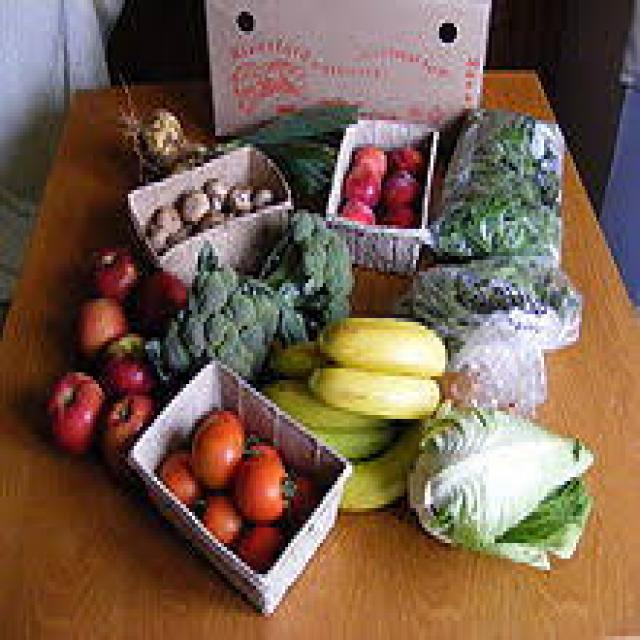organic waste: (404, 392, 594, 570), (143, 237, 282, 376), (204, 93, 355, 198), (439, 117, 550, 240), (256, 205, 352, 334), (114, 74, 204, 178), (337, 419, 419, 512), (311, 314, 442, 372), (306, 361, 436, 415), (262, 376, 401, 423), (454, 252, 573, 303), (186, 399, 256, 485), (233, 438, 291, 520), (44, 368, 99, 450), (99, 392, 148, 481), (70, 291, 122, 368), (96, 330, 154, 396), (131, 268, 186, 326), (81, 240, 137, 295), (302, 419, 398, 450), (154, 446, 204, 504), (195, 485, 238, 539), (265, 338, 323, 372), (233, 520, 279, 562), (279, 469, 314, 524), (378, 163, 416, 205), (340, 159, 376, 202), (349, 140, 387, 167), (384, 144, 422, 170), (178, 186, 206, 217), (148, 202, 178, 229), (338, 194, 372, 217), (198, 202, 230, 225), (378, 202, 413, 221), (204, 174, 224, 206), (224, 182, 250, 206), (250, 178, 271, 202), (145, 225, 166, 244)
